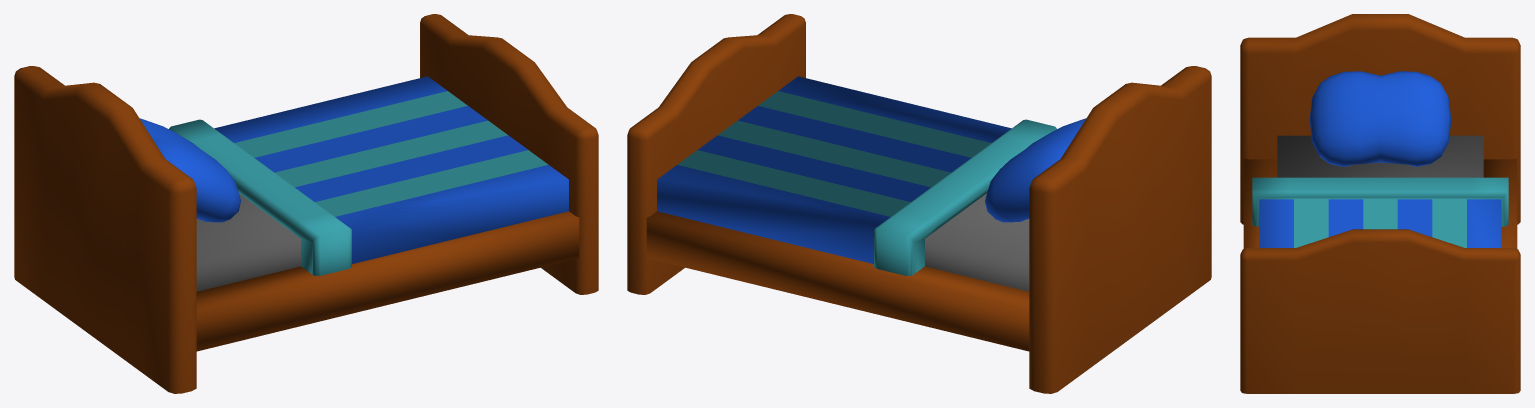
The model's file is Bed.fbx.
3 views of the same model, side by side, from view 1: azimuth 30°, elevation 25°; view 2: azimuth 150°, elevation 25°; view 3: azimuth 270°, elevation 25° (orthographic). The views are drawn at different scales.
Parts seen in each view (by area): view 1: Bed; view 2: Bed; view 3: Bed.
Part boxes in pixels (x1,y1,x2,y2): Bed: (14,14,598,393); Bed: (627,14,1211,393); Bed: (1240,14,1520,393).
Bounding box in the file's own units: 1011 × 533 × 666.
